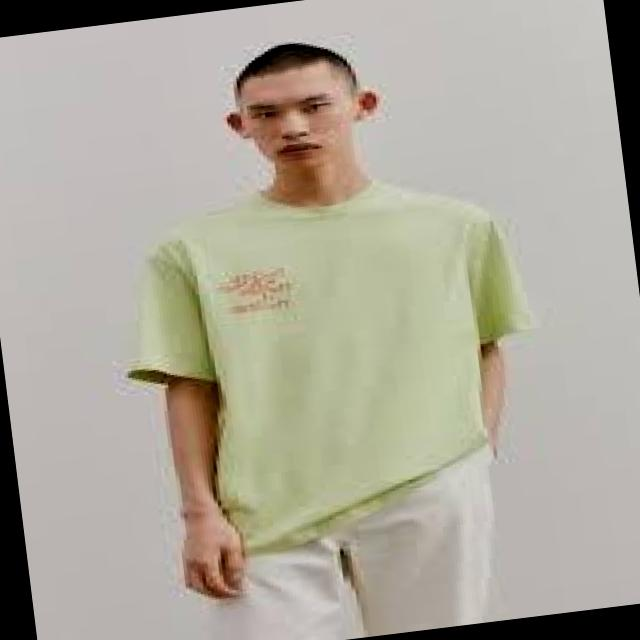Tshirt: (109, 158, 556, 572)
